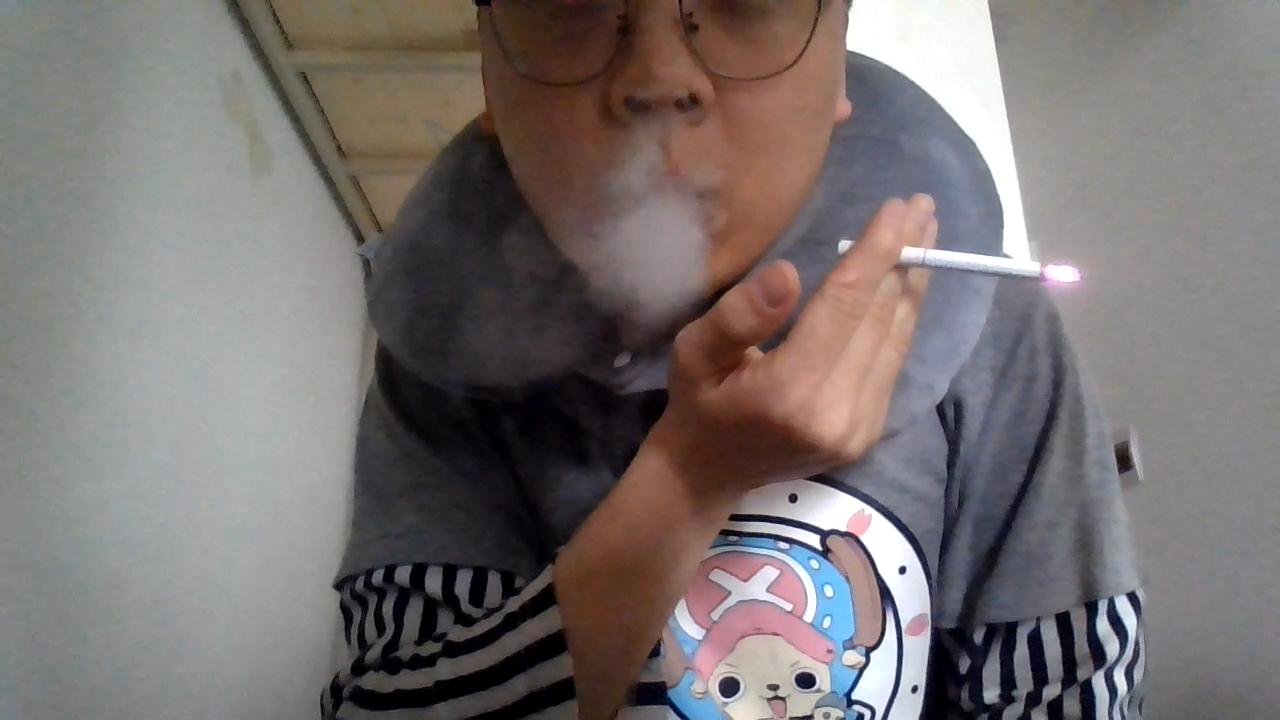yanwu: (575, 114, 735, 321)
